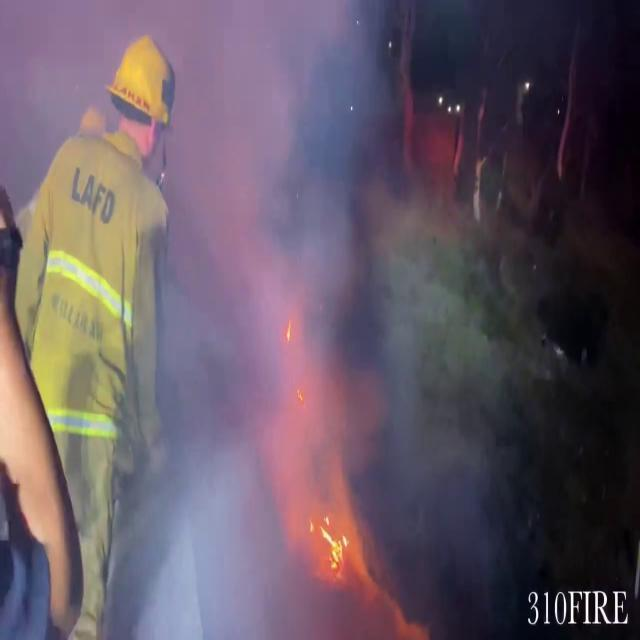Smoke: (124, 1, 522, 604)
